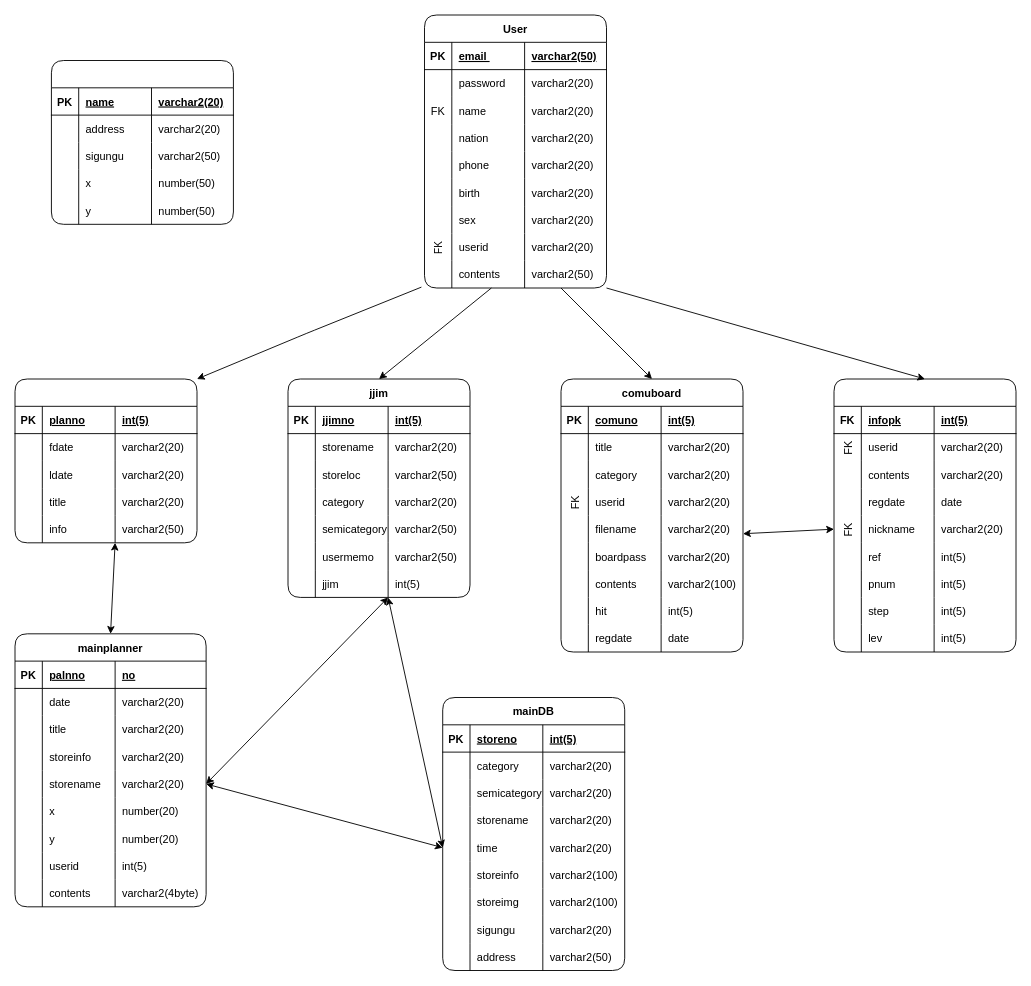
Some shapes in this 1031 by 986 pixel diagram are drawn without their labels. Here are the shapes that lost their labels. From the top down, the box of each, then its label:
(51, 60, 233, 224): seoularea
(14, 378, 197, 543): planner
(833, 378, 1016, 652): replyboard
